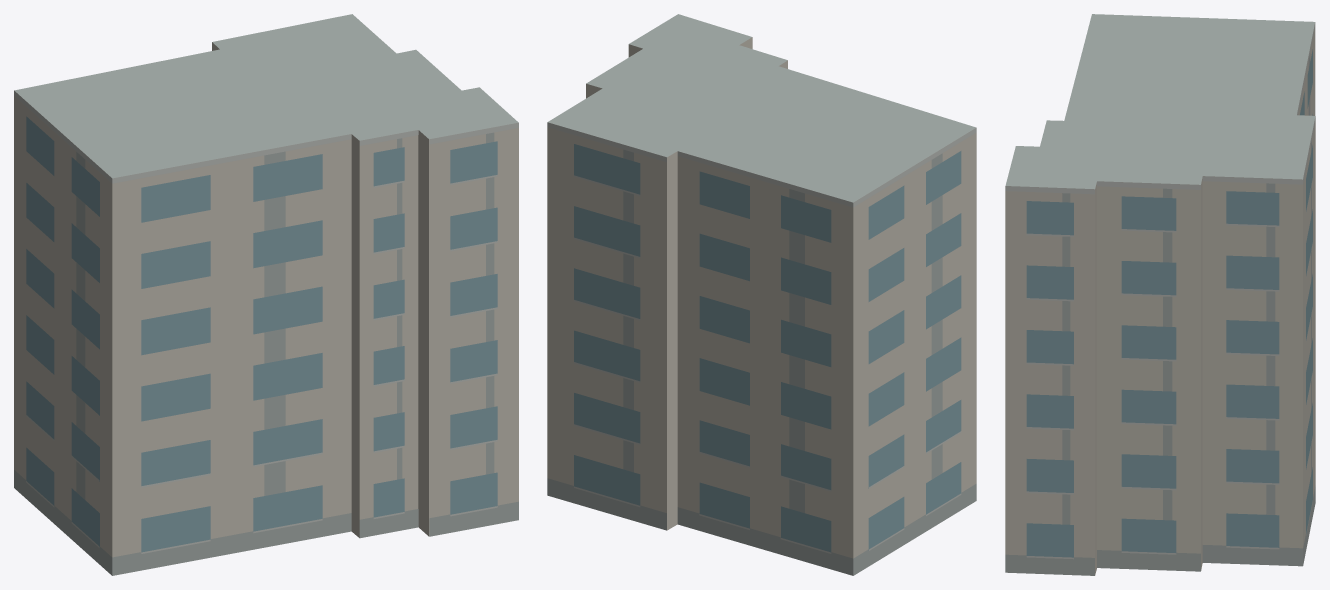
The model's file is survey-upis-32634437.glb.
3 renders of one model, left to right at view 1: azimuth 30°, elevation 25°; view 2: azimuth 150°, elevation 25°; view 3: azimuth 270°, elevation 25°, orthographic. The views are drawn at different scales.
Parts seen in each view (by area): view 1: survey-upis-32634437.tmp; view 2: survey-upis-32634437.tmp; view 3: survey-upis-32634437.tmp.
Boxes of the visible parts, x1,y1,x2,y2 form: survey-upis-32634437.tmp: [14, 14, 518, 575]; survey-upis-32634437.tmp: [547, 14, 976, 575]; survey-upis-32634437.tmp: [1005, 14, 1315, 575].
Bounding box in the file's own units: 17.78 × 18.3 × 13.31.
